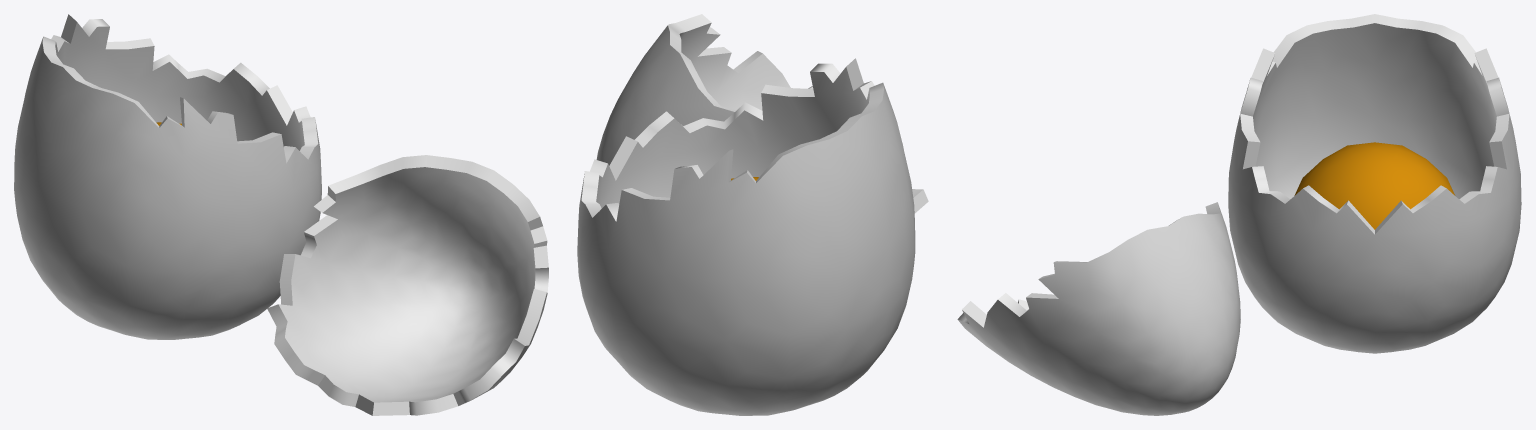
Rendered from egg.fbx.
3 renders of one model, left to right at view 1: azimuth 30°, elevation 25°; view 2: azimuth 150°, elevation 25°; view 3: azimuth 270°, elevation 25°, orthographic. The views are drawn at different scales.
Parts seen in each view (by area): view 1: egg; view 2: egg; view 3: egg.
Part boxes in pixels (box(x1,y1,x2,y2)): egg: box(14, 14, 548, 415); egg: box(577, 14, 928, 415); egg: box(957, 14, 1521, 415).
Bounding box in the file's own units: 1.52 × 1.11 × 2.08.
